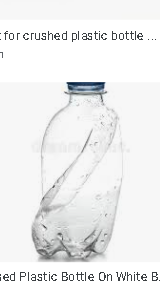Bottle: (38, 78, 118, 261)
